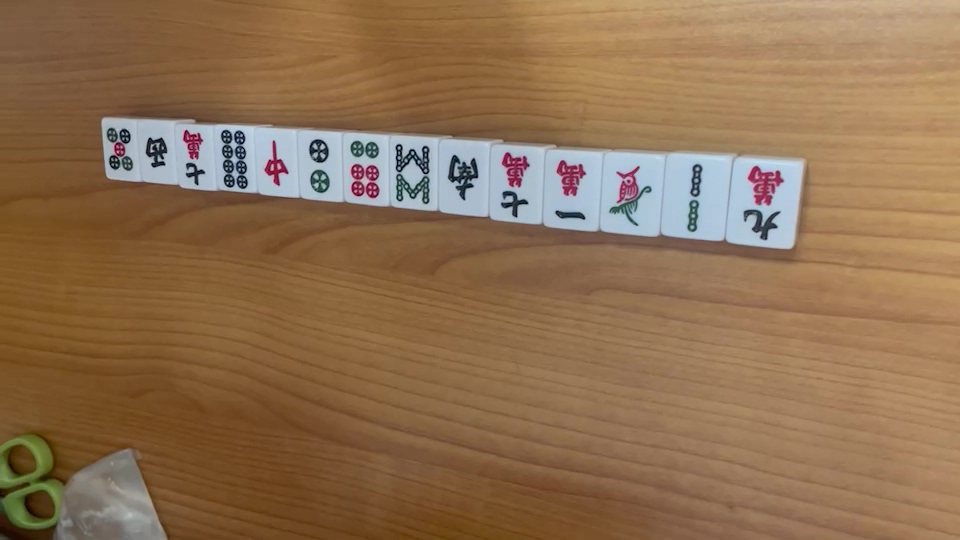b-1: (609, 160, 656, 226)
b-2: (676, 164, 710, 234)
b-8: (394, 142, 433, 207)
c-1: (548, 156, 591, 225)
c-7: (498, 147, 531, 218), (179, 129, 205, 187)
c-9: (734, 161, 791, 243)
d-2: (304, 137, 335, 195)
d-5: (102, 123, 135, 175)
d-6: (346, 138, 384, 199)
d-8: (218, 127, 249, 190)
honors-red: (259, 137, 292, 187)
honors-south: (443, 153, 480, 204)
honors-west: (143, 132, 170, 175)
